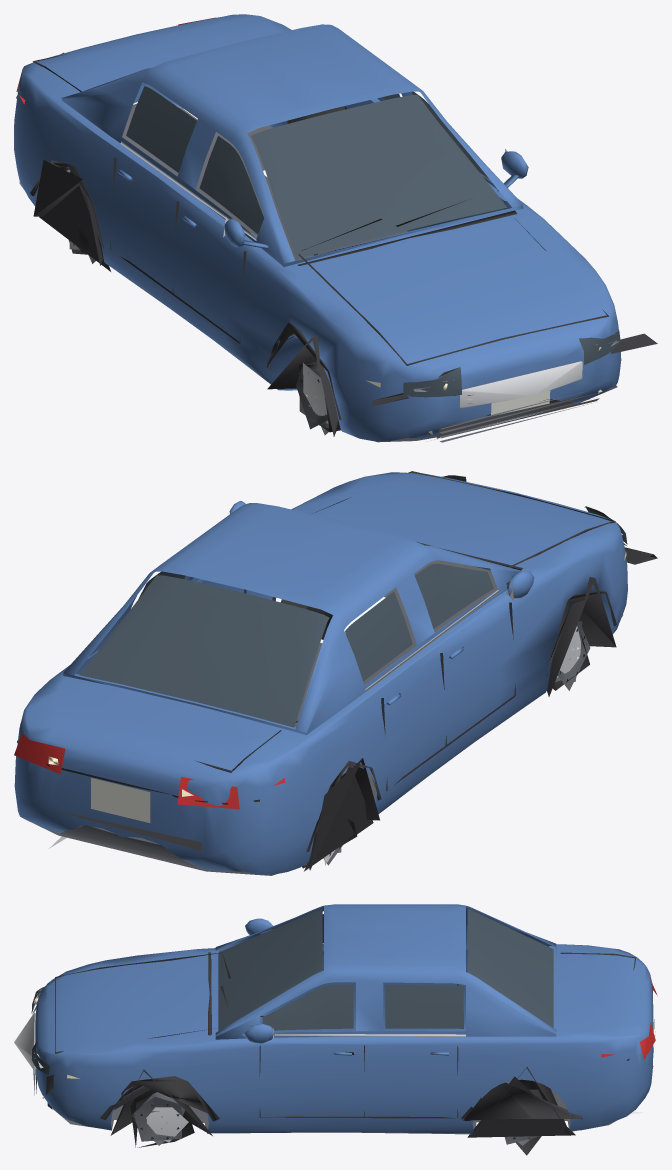
Rendered from CarV3_Compact_L2.fbx.
3 renders of one model, top to bottom at view 1: azimuth 30°, elevation 25°; view 2: azimuth 150°, elevation 25°; view 3: azimuth 270°, elevation 25°, orthographic. The views are drawn at different scales.
Visible parts, largest first — view 1: CarV3_Compact.001; view 2: CarV3_Compact.001; view 3: CarV3_Compact.001.
Part boxes in pixels (box(x1,y1,x2,y2)): CarV3_Compact.001: box(14, 14, 657, 442); CarV3_Compact.001: box(14, 471, 657, 875); CarV3_Compact.001: box(14, 904, 657, 1155).
Bounding box in the file's own units: 1.88 × 1.43 × 4.63.
